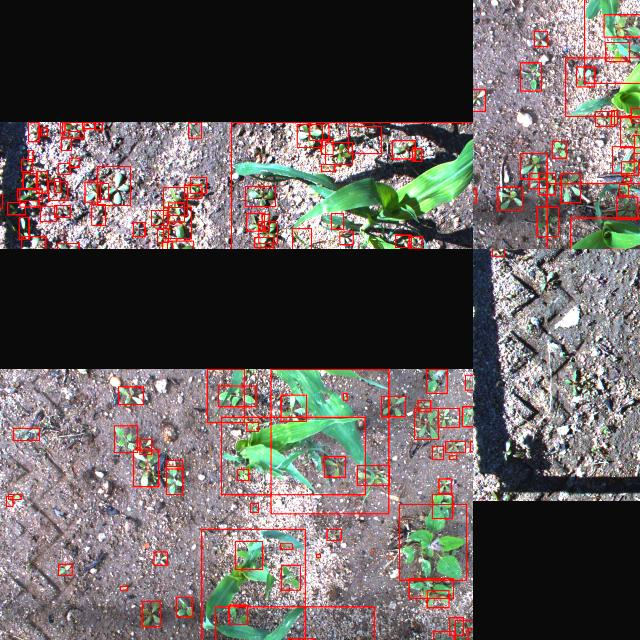crop: (231, 121, 473, 249), (271, 368, 389, 514), (201, 529, 304, 640), (221, 416, 365, 494), (546, 182, 640, 249), (215, 606, 374, 640), (584, 0, 640, 82), (565, 56, 640, 115), (206, 368, 244, 422), (612, 146, 634, 172)
weed: (399, 504, 466, 580), (98, 166, 130, 204), (134, 448, 158, 486), (163, 206, 191, 238), (348, 126, 382, 152), (409, 578, 453, 598), (218, 384, 256, 406), (603, 14, 640, 36), (235, 540, 262, 570), (414, 408, 438, 438), (163, 187, 187, 215), (520, 154, 548, 178), (114, 424, 138, 452), (282, 394, 306, 421), (357, 465, 389, 485), (520, 62, 542, 90), (245, 186, 275, 206), (538, 206, 558, 236), (620, 117, 640, 147), (298, 123, 322, 147), (326, 141, 352, 163), (498, 187, 522, 210), (616, 197, 638, 220), (562, 174, 580, 202), (427, 368, 448, 392), (381, 396, 405, 416), (432, 494, 452, 518), (165, 466, 182, 494), (282, 564, 300, 590), (118, 386, 144, 404), (606, 41, 630, 60), (258, 221, 278, 243), (324, 456, 346, 476), (392, 140, 416, 158), (142, 602, 160, 626), (438, 407, 459, 427), (48, 180, 68, 200), (576, 66, 596, 86), (228, 604, 248, 624), (292, 228, 311, 249), (427, 590, 449, 608), (455, 619, 473, 640), (62, 121, 84, 137), (22, 235, 46, 249), (539, 173, 555, 194), (20, 188, 38, 206), (247, 212, 265, 230), (310, 121, 328, 139), (85, 181, 101, 201), (168, 202, 184, 222), (14, 427, 40, 439), (92, 203, 106, 224), (18, 188, 42, 200), (596, 110, 614, 126), (176, 598, 192, 616), (190, 176, 207, 192), (36, 171, 48, 193), (473, 89, 485, 111), (40, 205, 56, 221), (22, 172, 38, 188), (530, 172, 546, 188), (552, 140, 566, 158), (450, 617, 464, 635), (28, 121, 40, 141), (254, 236, 274, 248), (167, 240, 193, 249), (184, 185, 202, 198), (188, 121, 202, 137), (152, 210, 168, 224), (534, 30, 548, 46), (622, 161, 638, 175), (19, 217, 29, 239), (445, 441, 465, 452), (7, 202, 25, 214), (331, 212, 344, 228), (463, 406, 473, 426), (438, 478, 452, 492), (54, 204, 70, 216), (321, 138, 333, 154), (395, 234, 411, 246), (140, 438, 152, 454), (433, 631, 454, 640), (133, 222, 145, 236), (408, 236, 422, 248), (327, 528, 341, 540), (432, 445, 443, 459), (57, 242, 78, 249), (58, 162, 70, 174), (340, 232, 352, 244), (166, 459, 182, 468), (154, 552, 166, 564), (418, 399, 430, 411), (61, 136, 71, 150), (158, 228, 168, 242), (58, 564, 72, 574), (631, 107, 640, 122), (22, 157, 32, 170), (101, 182, 109, 198), (262, 213, 270, 229), (412, 148, 422, 160), (247, 421, 259, 431), (238, 468, 248, 480), (465, 373, 473, 388), (634, 134, 640, 153), (321, 163, 335, 170), (68, 130, 80, 138), (620, 184, 628, 196), (54, 178, 60, 192), (611, 110, 617, 124), (70, 158, 80, 166), (163, 241, 173, 249), (250, 502, 258, 512), (6, 496, 14, 506), (83, 121, 95, 127), (280, 543, 292, 549), (492, 249, 504, 255), (28, 150, 34, 160), (412, 146, 416, 160), (8, 494, 22, 498), (41, 127, 47, 135), (96, 121, 102, 129), (60, 121, 64, 132), (470, 440, 473, 451), (623, 177, 631, 181), (120, 586, 128, 590), (343, 392, 347, 400), (449, 455, 456, 459), (316, 553, 320, 557)
